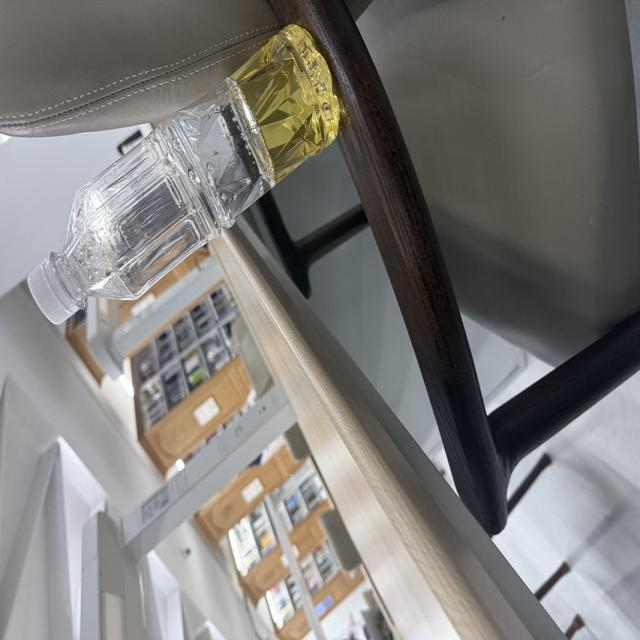low: (29, 24, 338, 323)
